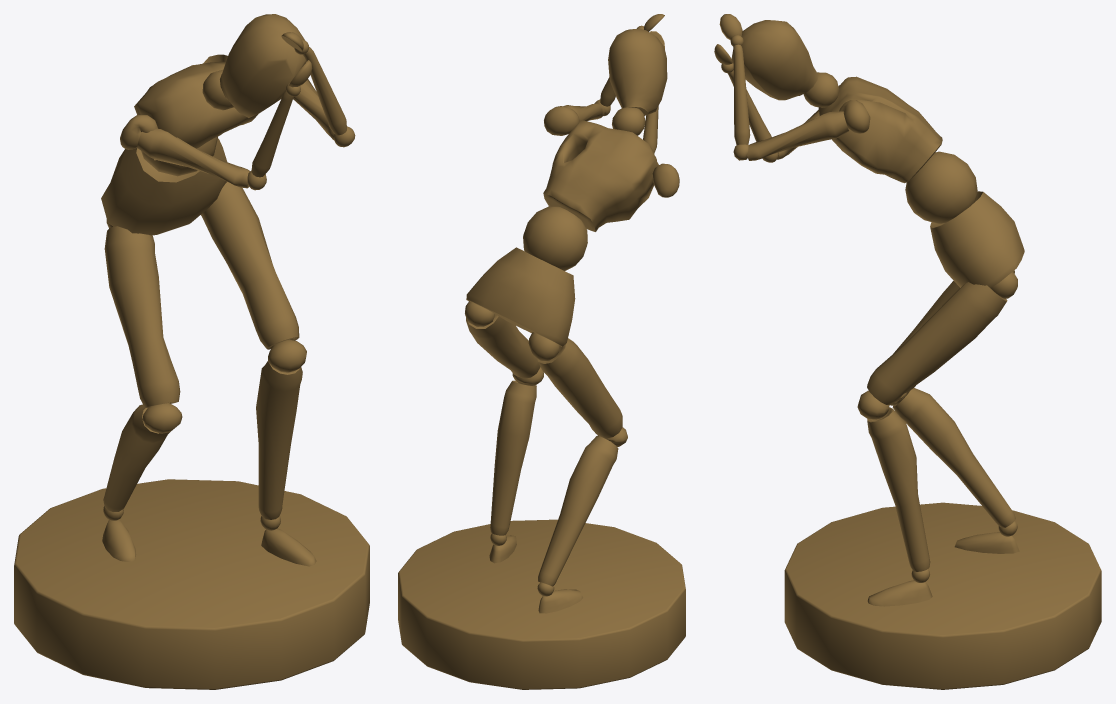
The model's file is maniquíChikito_pose_03.fbx.
3 renders of one model, left to right at view 1: azimuth 30°, elevation 25°; view 2: azimuth 150°, elevation 25°; view 3: azimuth 270°, elevation 25°, orthographic. The views are drawn at different scales.
Visible parts, largest first — view 1: dummy_obj.003; view 2: dummy_obj.003; view 3: dummy_obj.003.
Boxes of the visible parts, box(x1,y1,x2,y2) form: dummy_obj.003: box(14, 14, 369, 689); dummy_obj.003: box(398, 14, 685, 689); dummy_obj.003: box(714, 14, 1101, 689).
Bounding box in the file's own units: 71.62 × 149 × 87.45.
